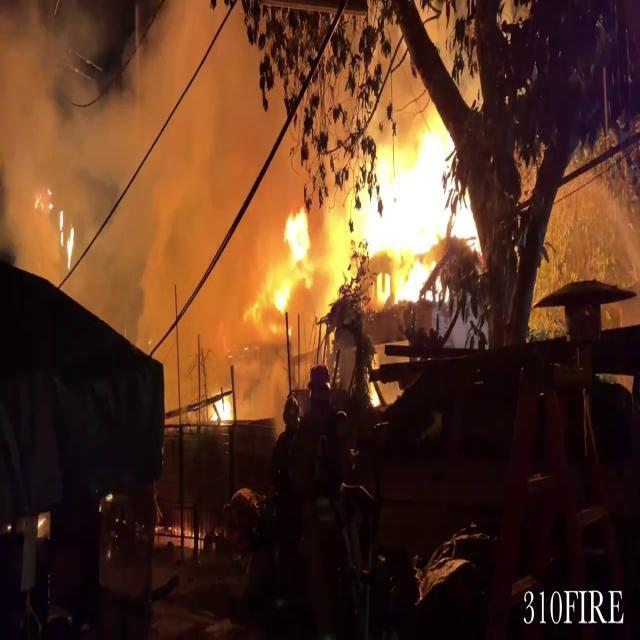Fire: (328, 82, 488, 316), (264, 190, 320, 326), (204, 373, 234, 425)
Smoke: (0, 0, 313, 378)
